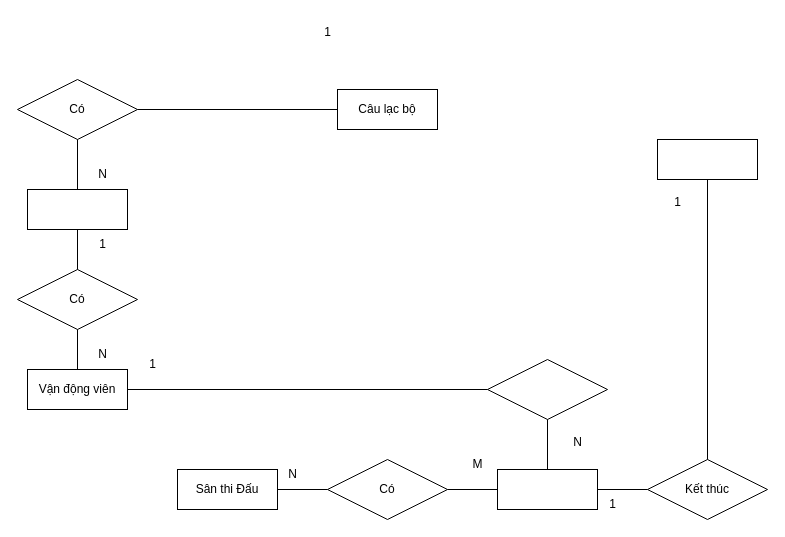
This 785x537 diagram has some shape labels left out. Here are the shapes that lost their labels. From the top down, the centre of each, then its label:
pixel 707 159: Kết quả
pixel 77 209: Đội bóng
pixel 547 389: Tham Gia
pixel 547 489: Trận Đấu
